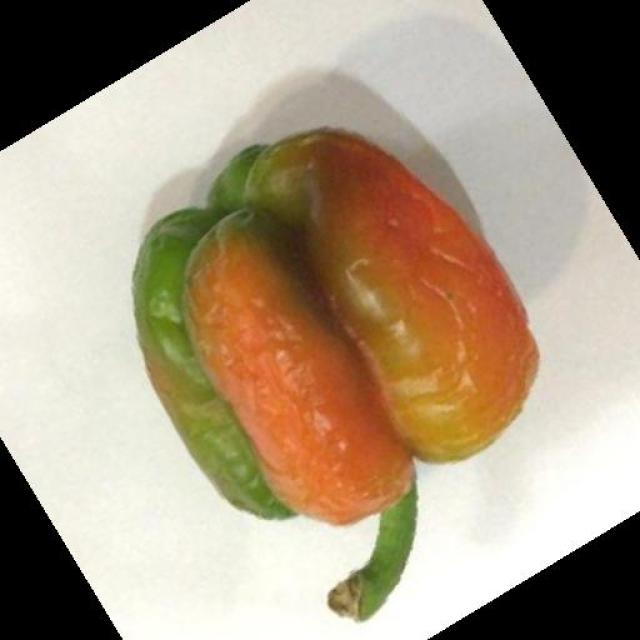Stale_Capsicum: (132, 127, 505, 537)
